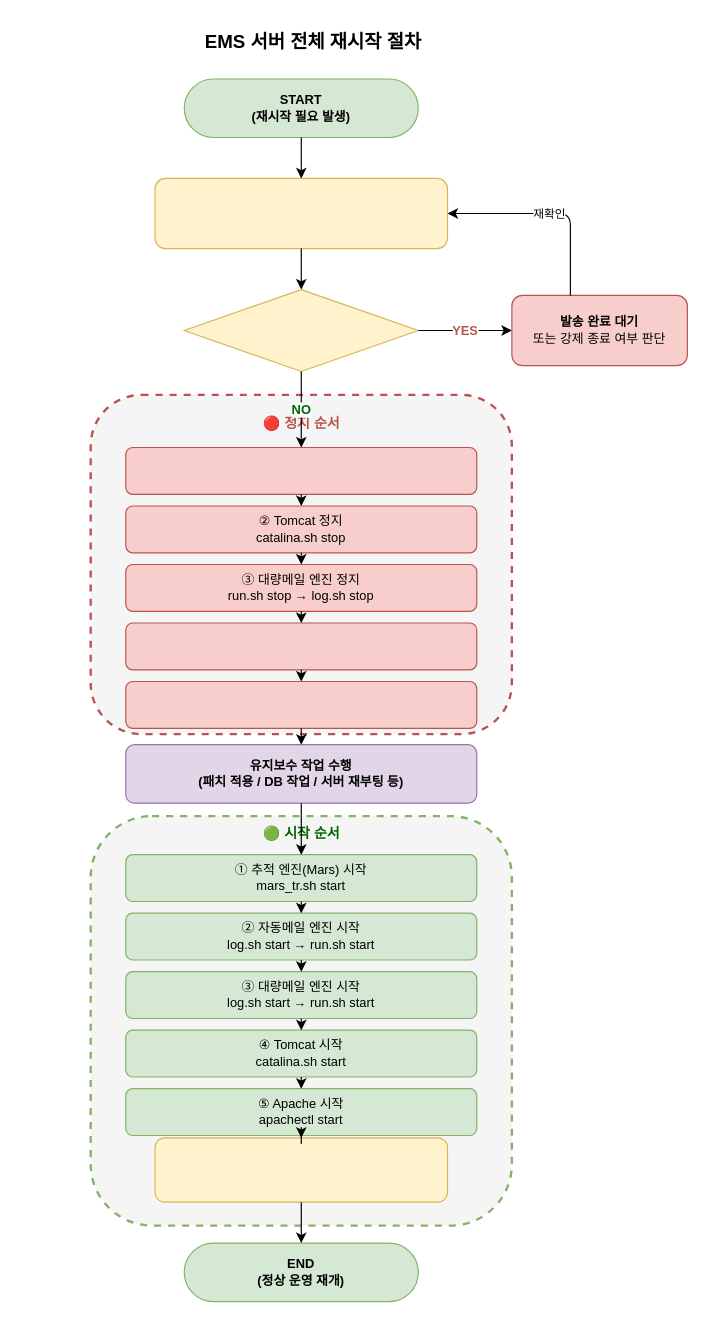
The diagram is 708 pixels wide and 1322 high, and some of its shapes have lost their labels. Each missing label, with the box of its shape:
① Apache 정지 apachectl stop: (125, 446, 477, 494)
④ 자동메일 엔진 정지 run.sh stop → log.sh stop: (125, 622, 477, 670)
⑤ 추적 엔진(Mars) 정지 mars_tr.sh stop: (125, 680, 477, 728)
발송 진행 중?: (183, 288, 418, 371)
사전 확인 mqueue 디렉토리 잔여 큐 확인 발송 로그 현황 확인: (154, 177, 448, 249)
프로세스 확인 ps -ef | grep EMS (5개 확인): (154, 1137, 448, 1202)
